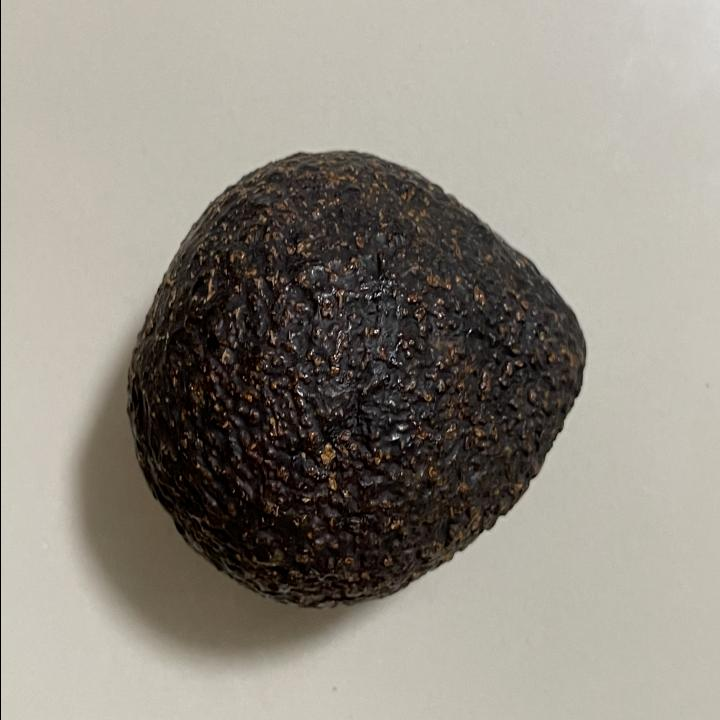Level3: (116, 134, 598, 622)
